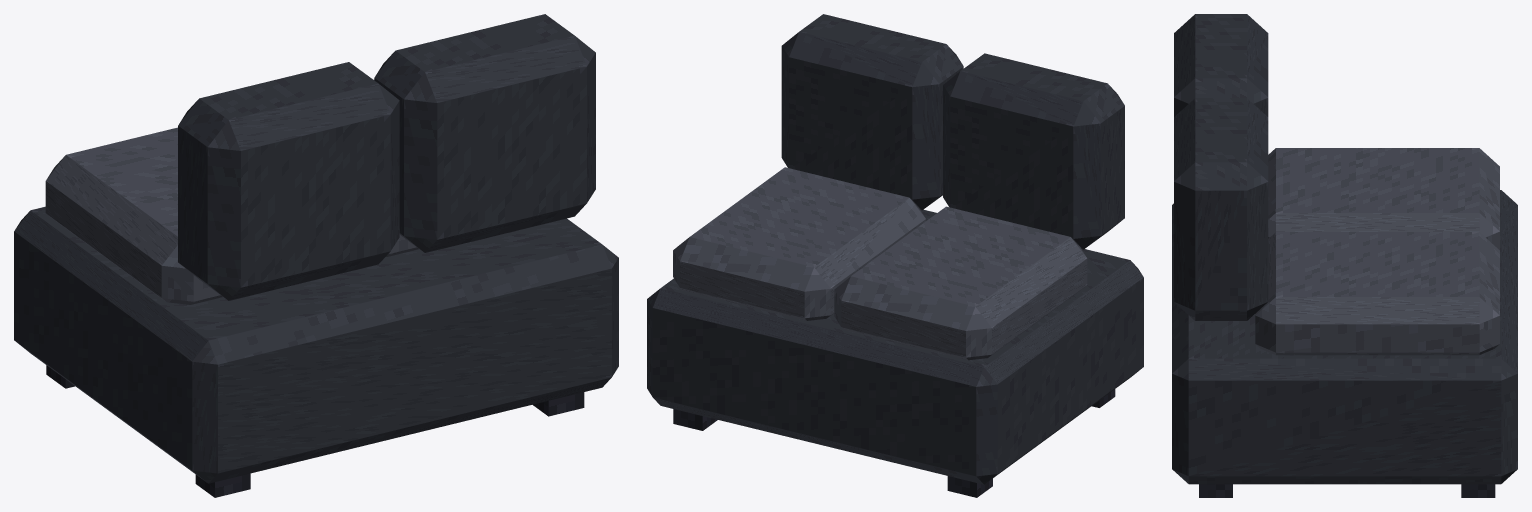
File: f_vitrified_sofa.glb
The picture shows the model from 3 angles, left to right: view 1: azimuth 30°, elevation 25°; view 2: azimuth 150°, elevation 25°; view 3: azimuth 270°, elevation 25°; orthographic projection. The views are drawn at different scales.
Visible parts, largest first — view 1: block_black-glass-upholstered-plinth, block_cold-glass-back-cushion (×2), block_overstuffed-glassy-seat-cushion, block_hard-glass-sofa-foot (×2); view 2: block_black-glass-upholstered-plinth, block_cold-glass-back-cushion (×2), block_overstuffed-glassy-seat-cushion (×2), block_hard-glass-sofa-foot (×2); view 3: block_black-glass-upholstered-plinth, block_overstuffed-glassy-seat-cushion (×2), block_cold-glass-back-cushion (×2), block_hard-glass-sofa-foot (×2).
Boxes of the visible parts, x1,y1,x2,y2 form: block_black-glass-upholstered-plinth: [14, 206, 618, 483]; block_cold-glass-back-cushion (×2): [178, 14, 595, 300]; block_overstuffed-glassy-seat-cushion: [45, 127, 222, 304]; block_hard-glass-sofa-foot (×2): [195, 392, 584, 497]; block_black-glass-upholstered-plinth: [647, 209, 1143, 484]; block_cold-glass-back-cushion (×2): [781, 14, 1124, 249]; block_overstuffed-glassy-seat-cushion (×2): [673, 167, 1087, 360]; block_hard-glass-sofa-foot (×2): [673, 409, 992, 497]; block_black-glass-upholstered-plinth: [1172, 190, 1517, 484]; block_overstuffed-glassy-seat-cushion (×2): [1255, 148, 1499, 355]; block_cold-glass-back-cushion (×2): [1174, 14, 1268, 320]; block_hard-glass-sofa-foot (×2): [1199, 484, 1495, 497].
Size of the model in its own units: 0.992 by 0.837 by 0.793.
1 material, 1 textured.
